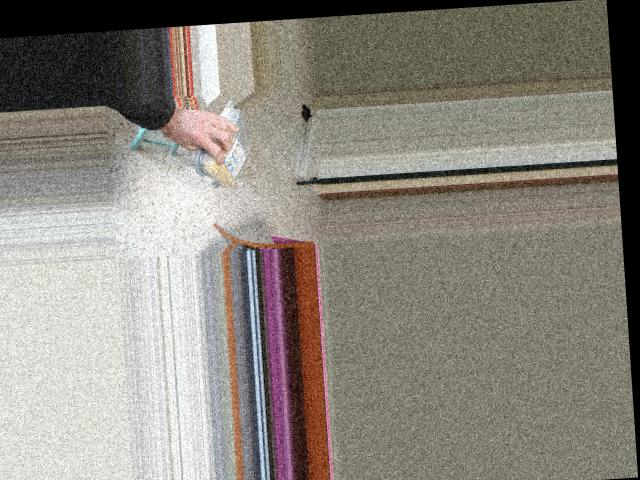cheese: (203, 105, 249, 196)
